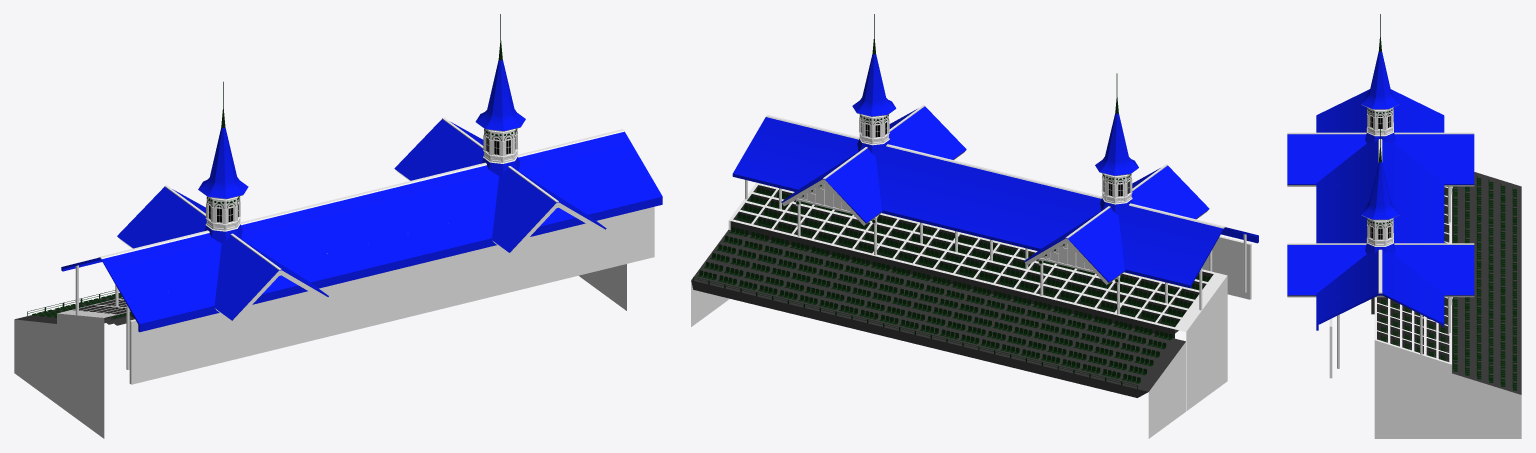
File: churchill_main.fbx
3 views of the same model, side by side, from view 1: azimuth 30°, elevation 25°; view 2: azimuth 150°, elevation 25°; view 3: azimuth 270°, elevation 25° (orthographic). The views are drawn at different scales.
Parts seen in each view (by area): view 1: churchill; view 2: churchill; view 3: churchill.
Boxes of the visible parts, x1,y1,x2,y2 form: churchill: [14, 14, 662, 438]; churchill: [691, 14, 1258, 438]; churchill: [1287, 14, 1521, 438].
Bounding box in the file's own units: 7387 × 4380 × 3506.
